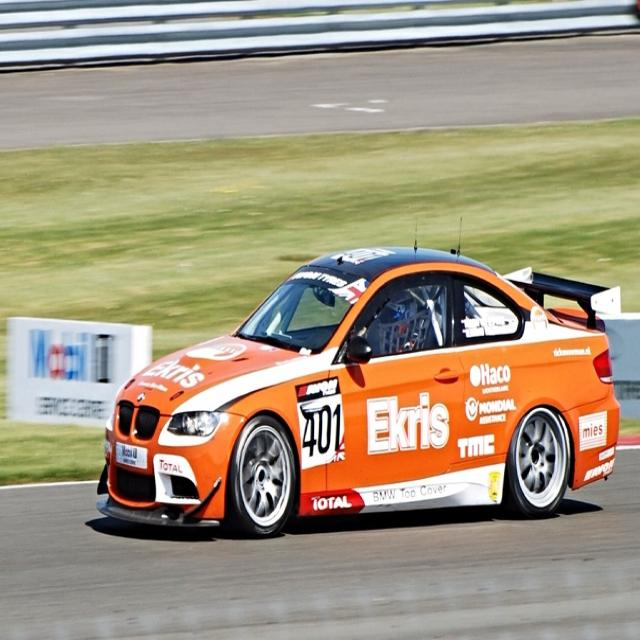car: (103, 236, 618, 545)
